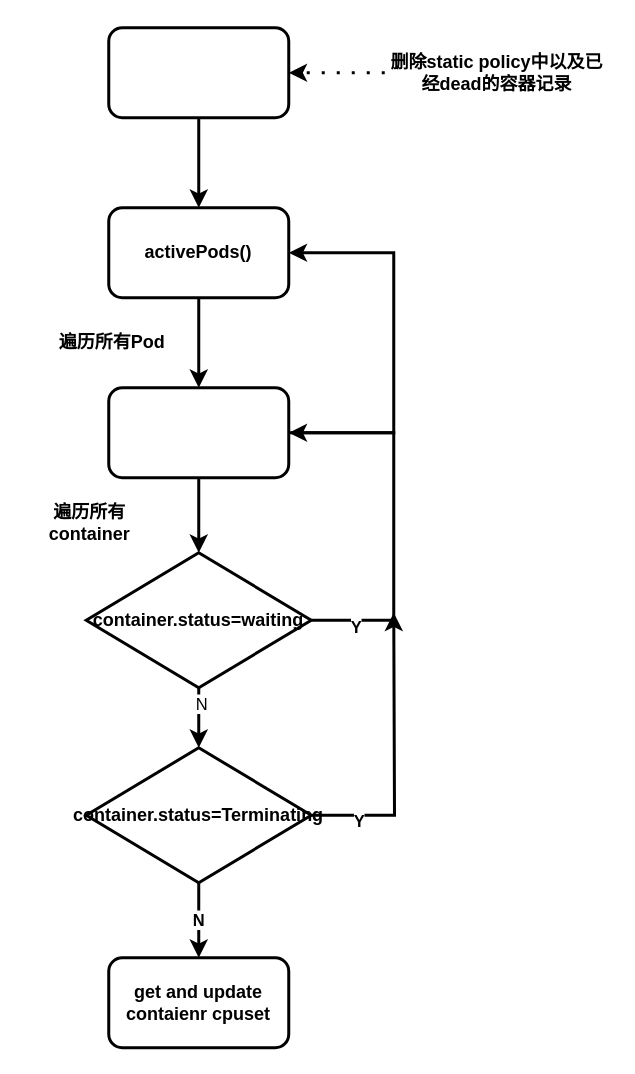
The diagram is 635 pixels wide and 1074 high, and some of its shapes have lost their labels. Each missing label, with the centre of its shape:
allContainers: the point at 198,432
removeStableState: the point at 198,72
